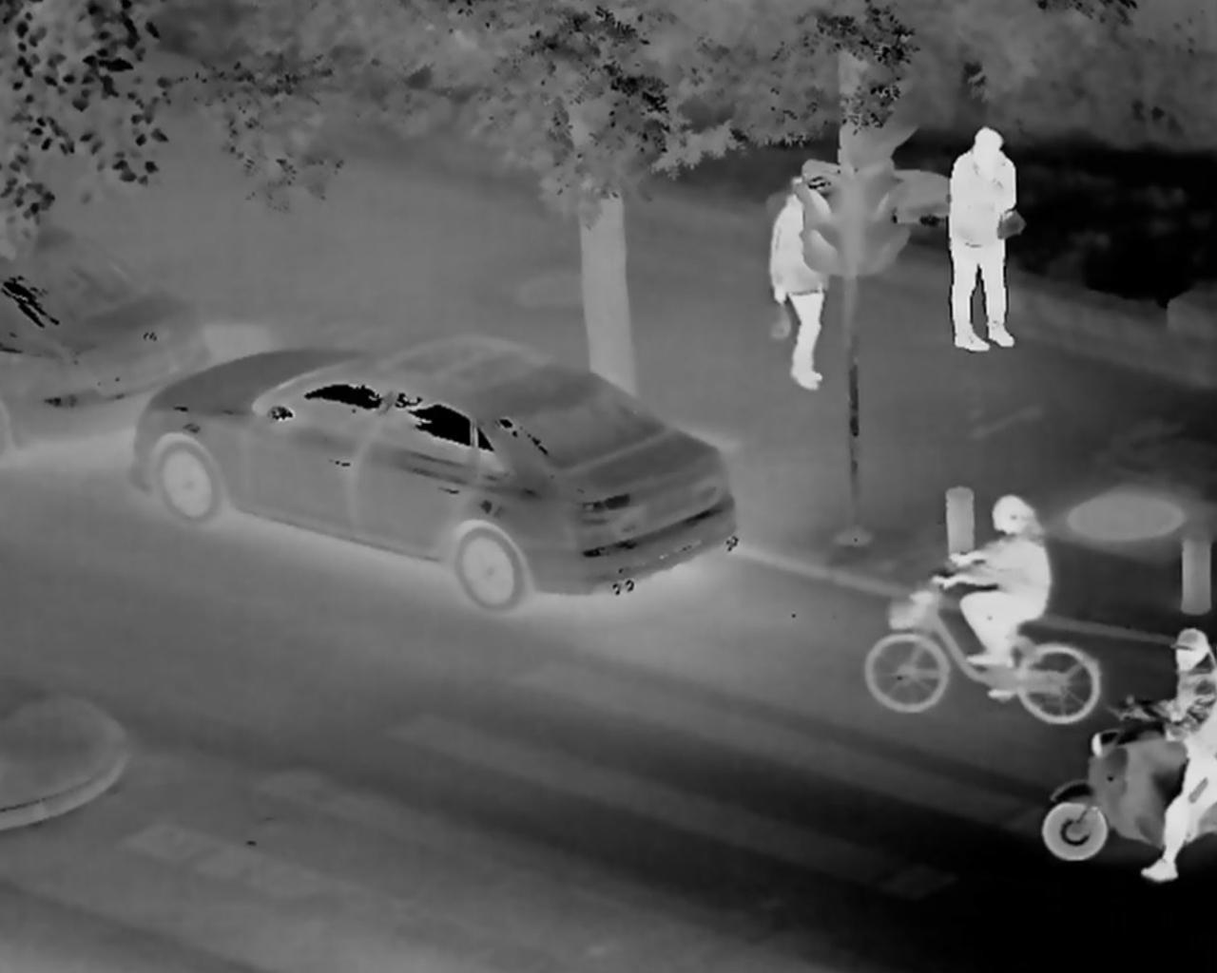person: (929, 487, 1063, 706), (753, 136, 849, 394), (1134, 624, 1217, 882), (943, 127, 1018, 368)
